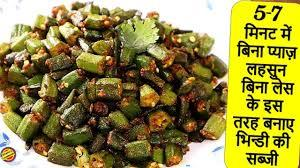bhindi: (14, 25, 216, 140)
